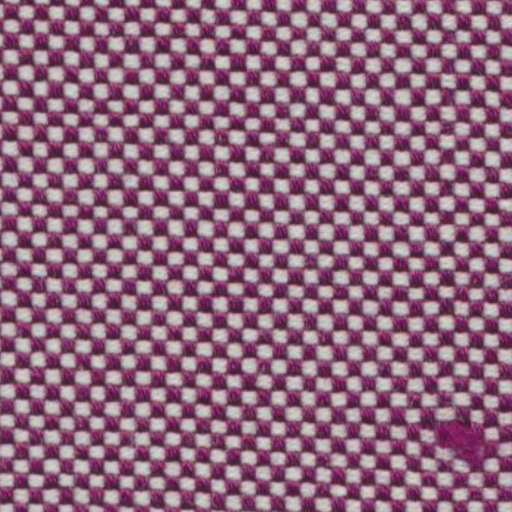MianQiu: (413, 399, 502, 482)
